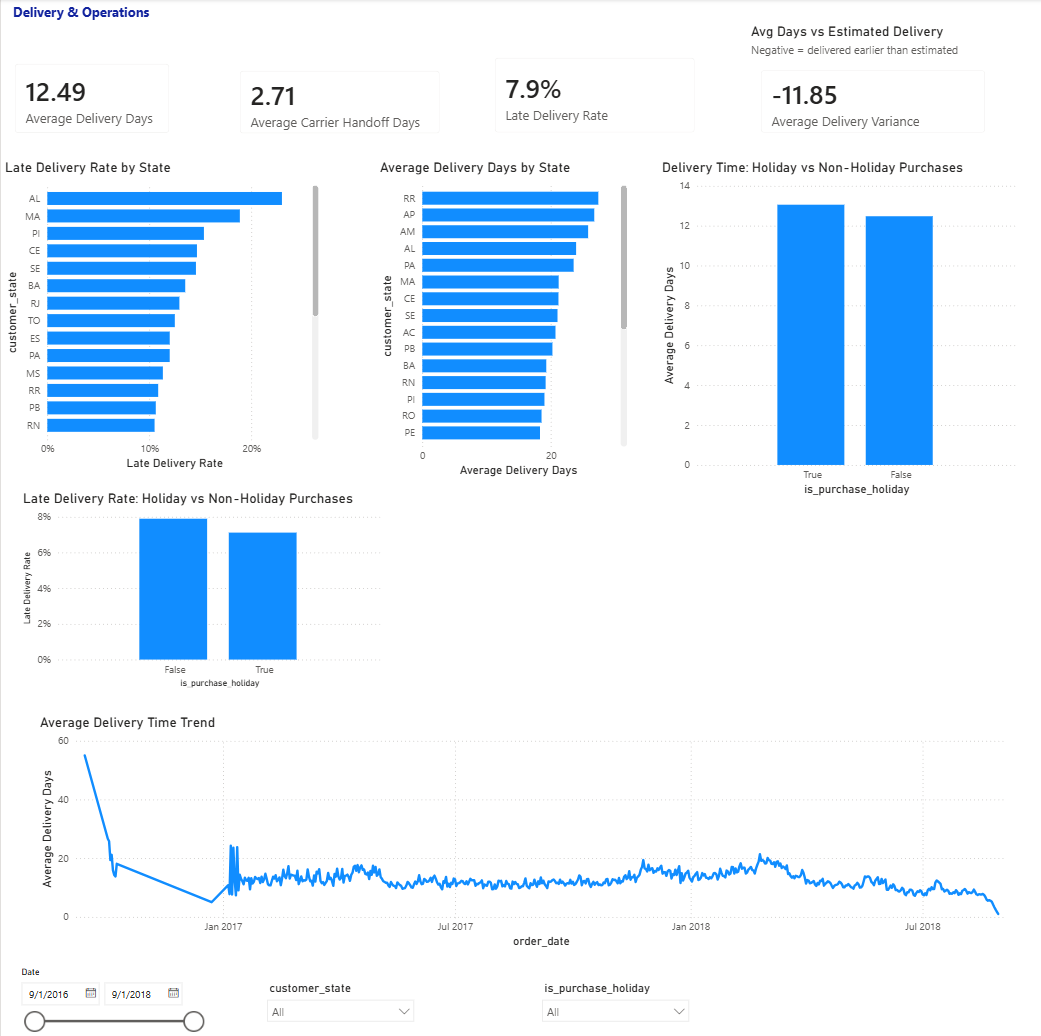

This screenshot's page, from the dashboard's own definition file:
{"tool":"powerbi","page":{"name":"Delivery & Operations","canvas":[1280,1280],"ordinal":3},"visuals":[{"type":"textbox","box":[9.5,0,280.9,32],"z":0},{"type":"cardVisual","fields":{"Data":["mart_customer_behavior.Average Delivery Days"]},"box":[0,62.8,224,119.7],"z":1},{"type":"cardVisual","fields":{"Data":["mart_delivery_operations.Average Carrier Handoff Days"]},"box":[277.3,71.1,280.9,111.4],"z":2},{"type":"cardVisual","fields":{"Data":["mart_customer_behavior.Late Delivery Rate"]},"box":[590.2,55.7,280.9,126.8],"z":3},{"type":"cardVisual","title":"Avg Days vs Estimated Delivery","fields":{"Data":["mart_delivery_operations.Average Delivery Variance"]},"box":[918.5,29.6,310.5,152.9],"z":4},{"type":"lineChart","title":"Average Delivery Time Trend","fields":{"Category":["mart_delivery_operations.order_date"],"Y":["mart_customer_behavior.Average Delivery Days"]},"box":[42.7,880.6,1211.3,292.7],"z":5},{"type":"columnChart","title":"Late Delivery Rate: Holiday vs Non-Holiday Purchases","fields":{"Category":["mart_delivery_operations.is_purchase_holiday"],"Y":["mart_customer_behavior.Late Delivery Rate"]},"box":[22.5,604.4,450.4,247.7],"z":8},{"type":"columnChart","title":"Delivery Time: Holiday vs Non-Holiday Purchases","fields":{"Category":["mart_delivery_operations.is_purchase_holiday"],"Y":["mart_customer_behavior.Average Delivery Days"]},"box":[808.3,196.7,445.6,419.6],"z":9},{"type":"barChart","title":"Late Delivery Rate by State","fields":{"Category":["mart_delivery_operations.customer_state"],"Y":["mart_customer_behavior.Late Delivery Rate"]},"box":[0,196.7,395.9,387.6],"z":10},{"type":"barChart","title":"Average Delivery Days by State","fields":{"Category":["mart_delivery_operations.customer_state"],"Y":["mart_customer_behavior.Average Delivery Days"]},"box":[461,196.7,314.1,395.9],"z":11},{"type":"slicer","fields":{"Values":["DimDate.Date"]},"box":[11.9,1186.4,245.3,93.6],"z":12},{"type":"slicer","fields":{"Values":["mart_delivery_operations.customer_state"]},"box":[317.6,1204.1,201.5,75.9],"z":13},{"type":"slicer","fields":{"Values":["mart_delivery_operations.is_purchase_holiday"]},"box":[656.6,1204.1,201.5,66.4],"z":14}]}

Visuals, with their boxes in screenshot pixels (x1, y1, x2, y2), scaled from the page's 1280x1280 canvas onto the 1041x1036 screenshot:
textbox: x1=8 y1=0 x2=236 y2=26
cardVisual - mart_customer_behavior.Average Delivery Days: x1=0 y1=51 x2=182 y2=148
cardVisual - mart_delivery_operations.Average Carrier Handoff Days: x1=226 y1=58 x2=454 y2=148
cardVisual - mart_customer_behavior.Late Delivery Rate: x1=480 y1=45 x2=708 y2=148
"Avg Days vs Estimated Delivery" cardVisual: x1=747 y1=24 x2=1000 y2=148
"Average Delivery Time Trend" lineChart: x1=35 y1=713 x2=1020 y2=950
"Late Delivery Rate: Holiday vs Non-Holiday Purchases" columnChart: x1=18 y1=489 x2=385 y2=690
"Delivery Time: Holiday vs Non-Holiday Purchases" columnChart: x1=657 y1=159 x2=1020 y2=499
"Late Delivery Rate by State" barChart: x1=0 y1=159 x2=322 y2=473
"Average Delivery Days by State" barChart: x1=375 y1=159 x2=630 y2=480
slicer - DimDate.Date: x1=10 y1=960 x2=209 y2=1035
slicer - mart_delivery_operations.customer_state: x1=258 y1=975 x2=422 y2=1035
slicer - mart_delivery_operations.is_purchase_holiday: x1=534 y1=975 x2=698 y2=1028
